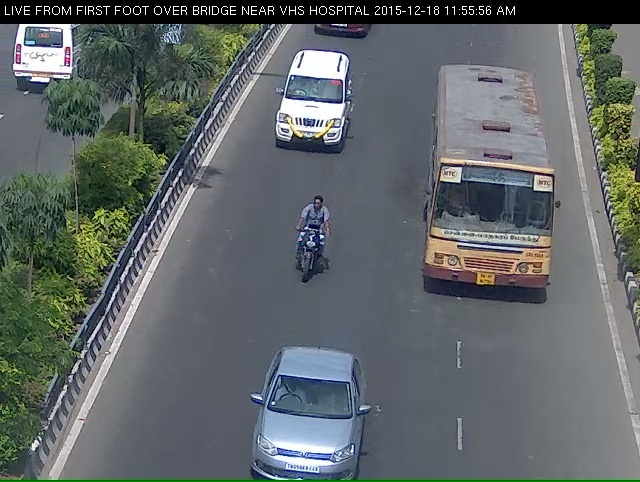Bus: (402, 59, 568, 344)
Car: (237, 377, 369, 481), (262, 52, 350, 164)
Person: (289, 214, 326, 307)
